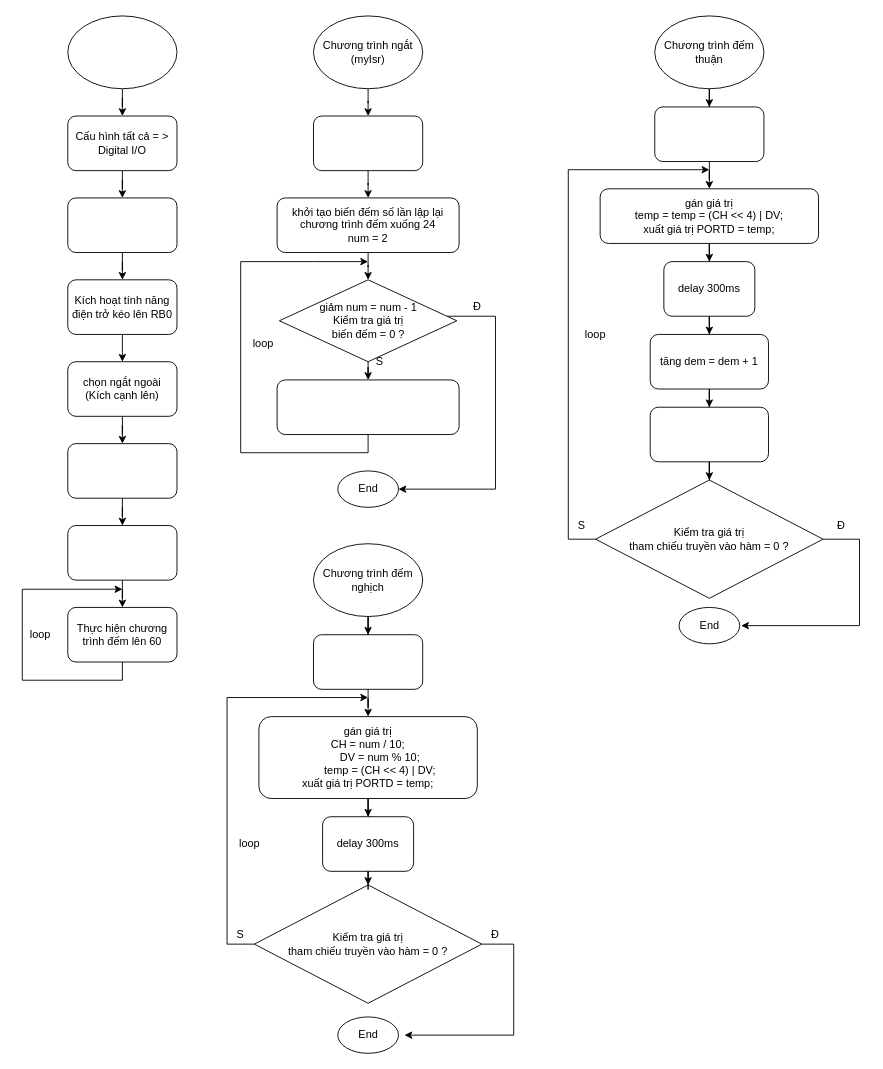
Image size: 883x1069. Some labels were removed from this diagram. Each missing label, with the centre of its shape:
Begin: [122,52]
Cho phép module ngắt hoạt động: [122,552]
Cấu hình PORT nối led 7 đoạn: [122,225]
gán giá trị CH = dem / 10 DV = dem % 10: [708,434]
Khởi tạo các giá trị temp = 0 CH = 0, DV = 0: [368,661]
Khởi tạo các giá trị temp = 0, dem = 0, CH = 0, DV = 0: [709,134]
Thực hiện chương trình đếm xuống 24: [367,407]
Xoá cờ ngắt: [368,143]
Xoá cờ ngắt Cho phép ngắt ngoài: [122,470]
